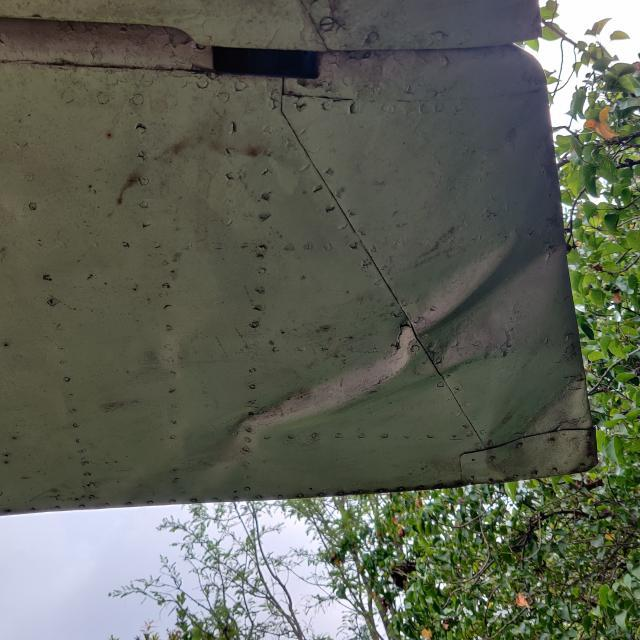crack: (389, 321, 412, 360)
dent: (273, 207, 568, 438), (115, 397, 275, 520)
